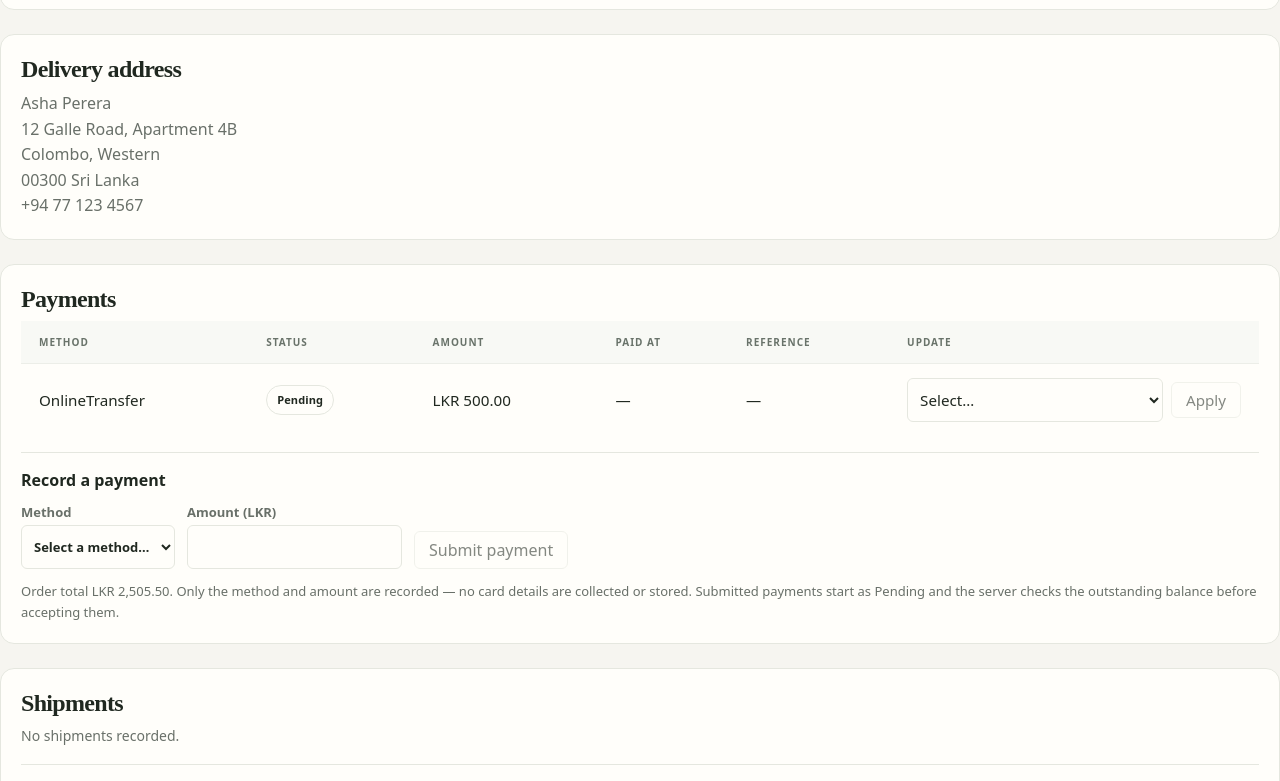
Test case: OrderDetailPage › lets staff complete a pending payment and refreshes the order
(page scrolled)
Select "Completed" in the dropdown named "Update OnlineTransfer payment". click: (1035, 400)
box: [907,378,1163,422]
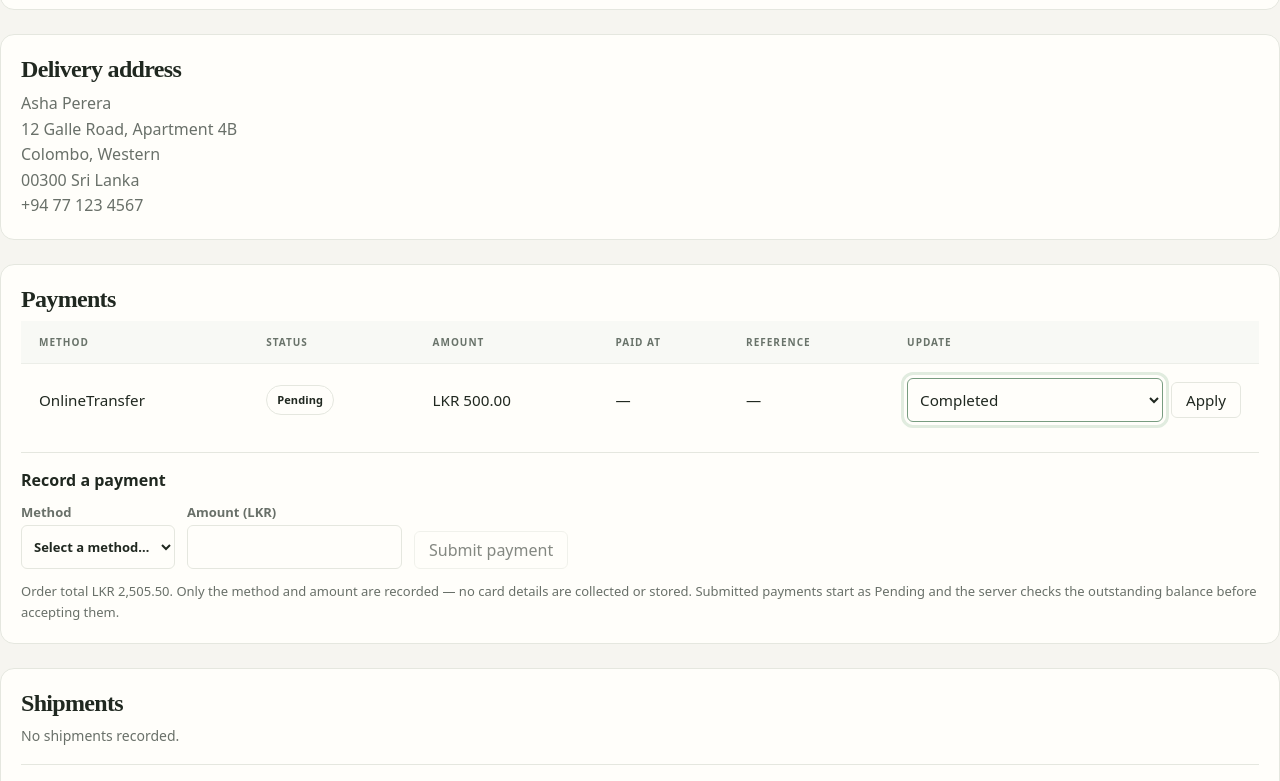
Click the button "Apply". click: (1206, 400)
box: [1171,382,1241,418]
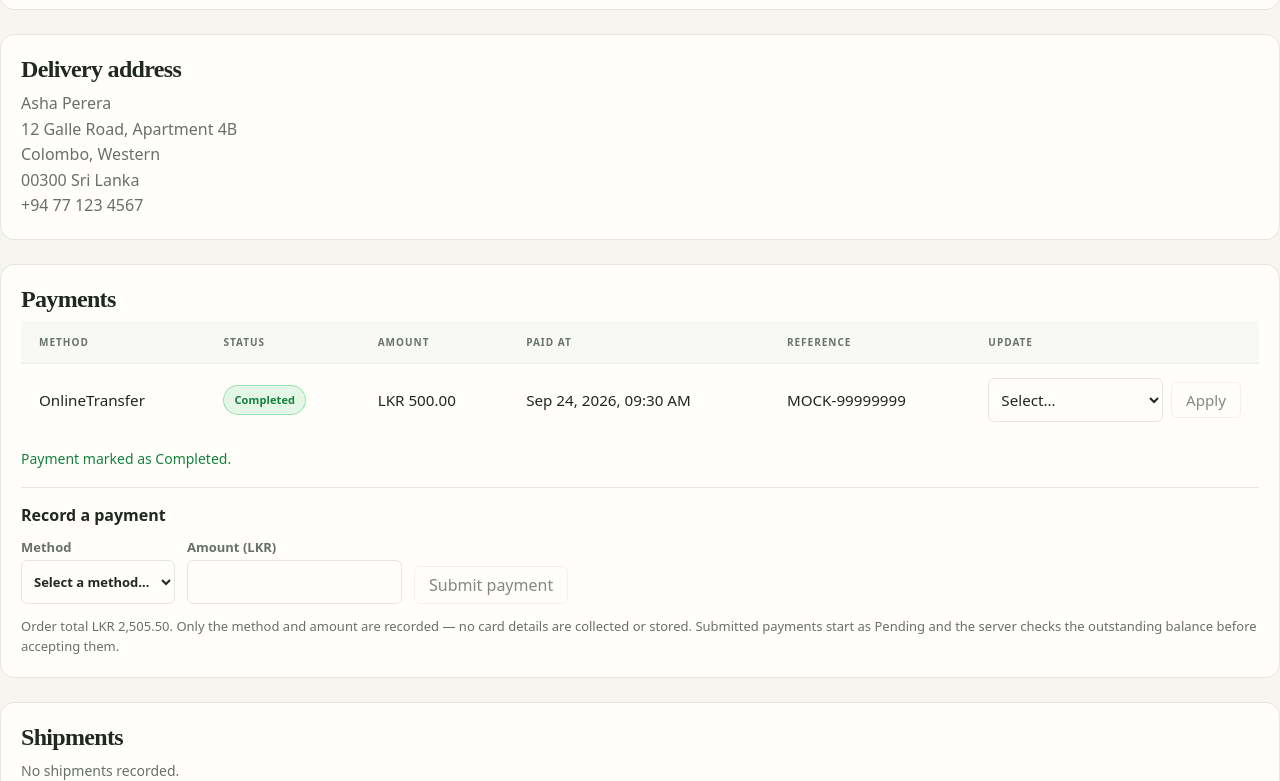
Now the text "Payment marked as Completed." is shown, box [21,449,231,468]
Now the text "MOCK-99999999" is shown, box [769,364,970,436]
